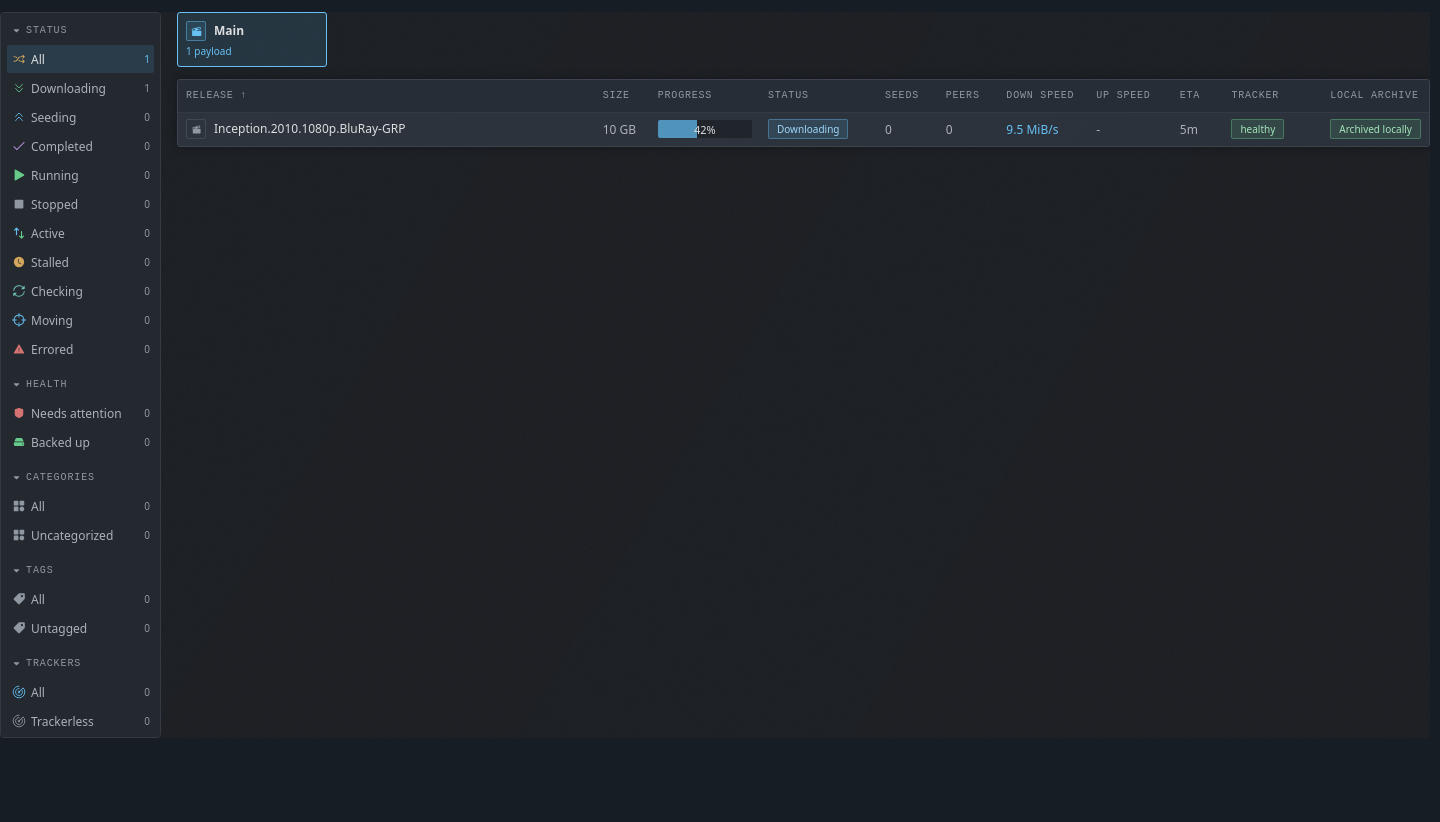
Test: Downloads page › sets the category of the selected torrents from the row menu
This screenshot has width=1440, height=822.
Later steps or results of the test are not shown.
Right-click the text "Inception.2010.1080p.BluRay-GRP": (310, 129) x1=214 y1=120 x2=405 y2=137
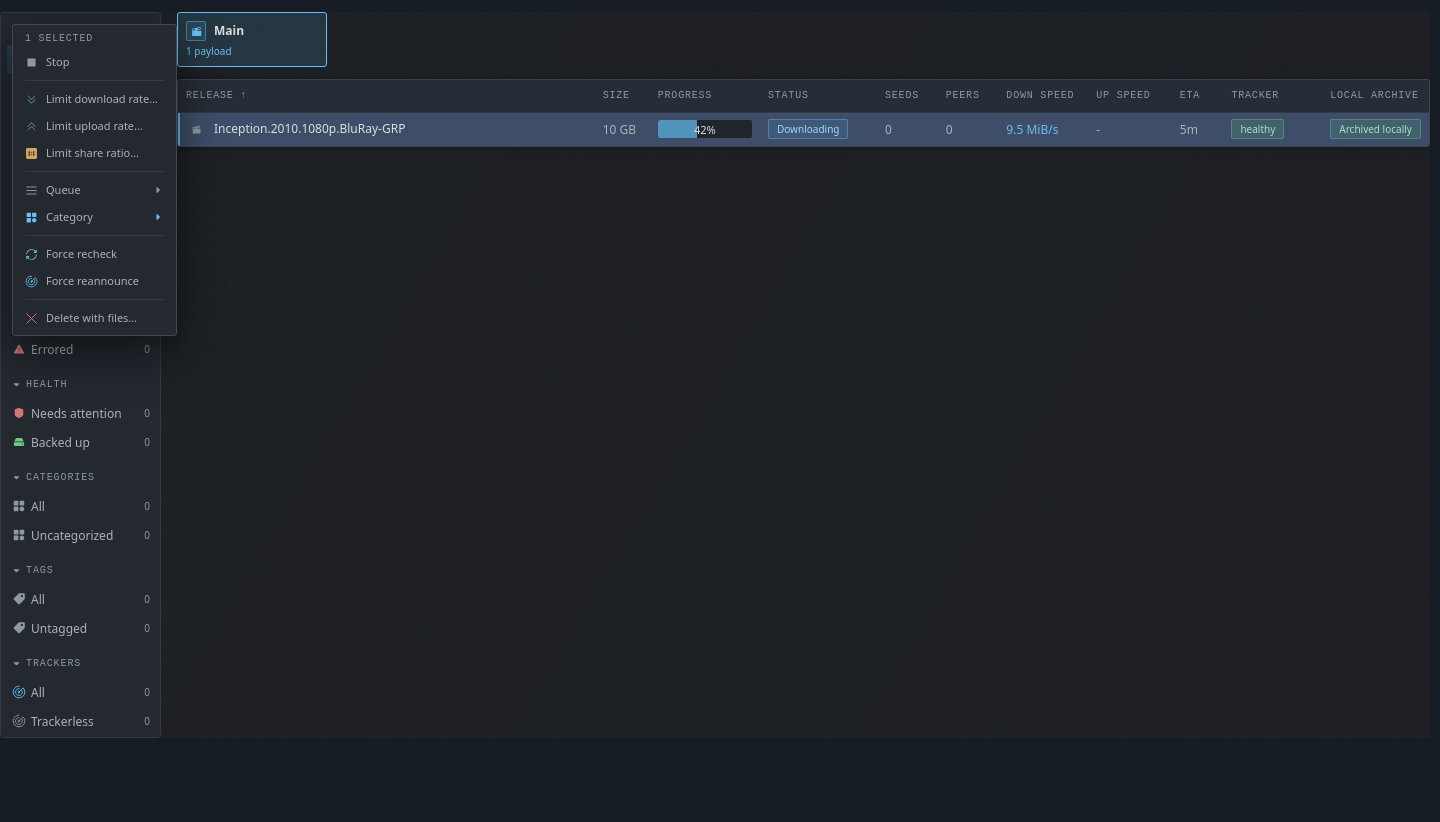
Hover over the element showing "Category": (94, 217) x1=17 y1=204 x2=172 y2=230
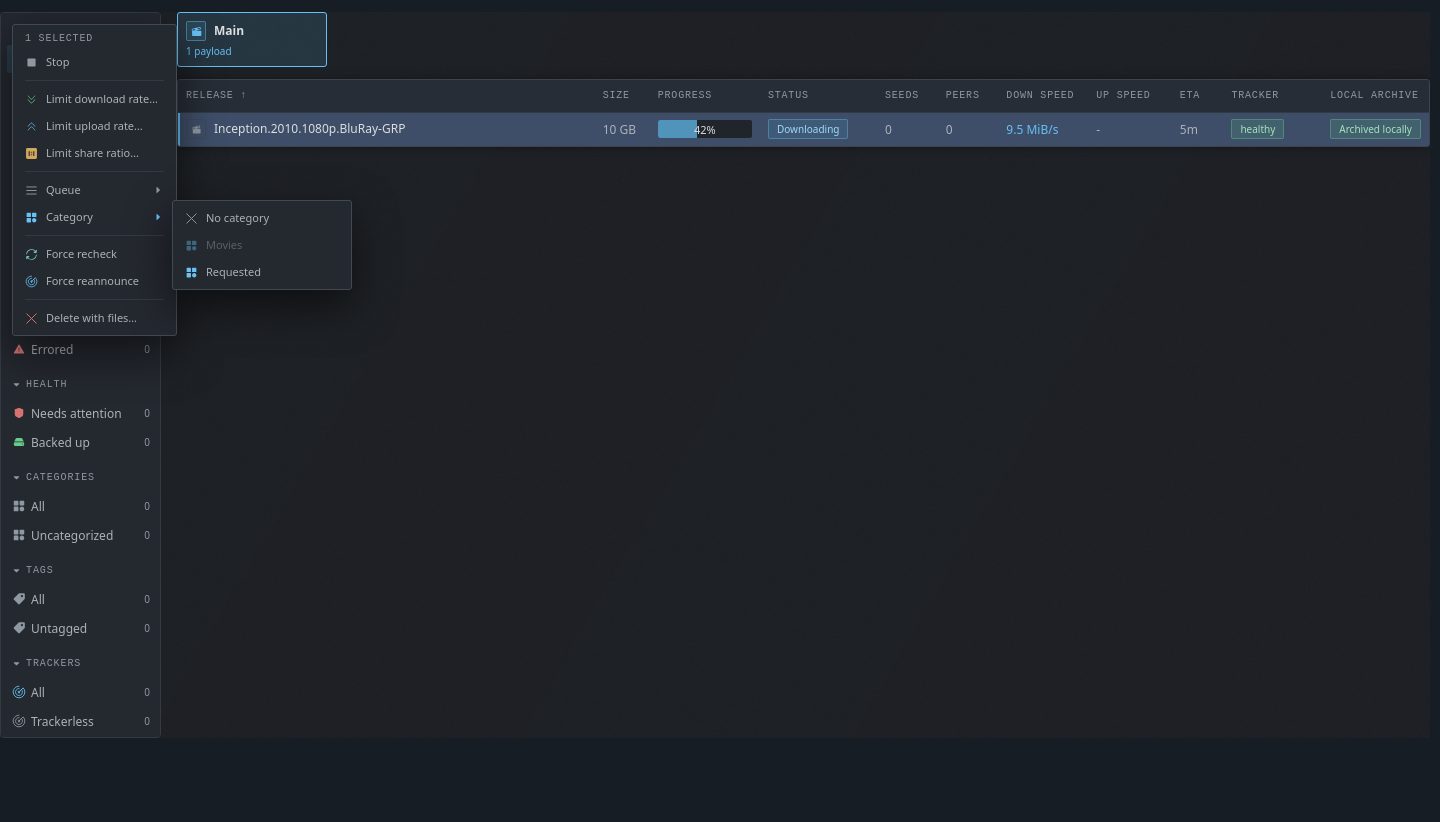
Expected: the button "Movies" is disabled, x1=177 y1=232 x2=347 y2=258
